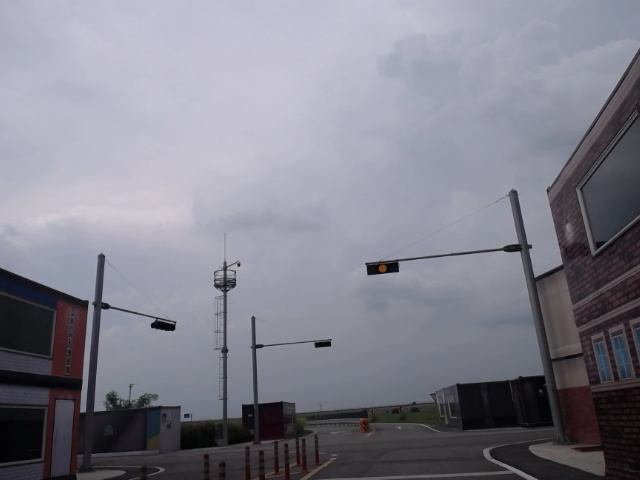orange_3: (367, 260, 399, 275)
